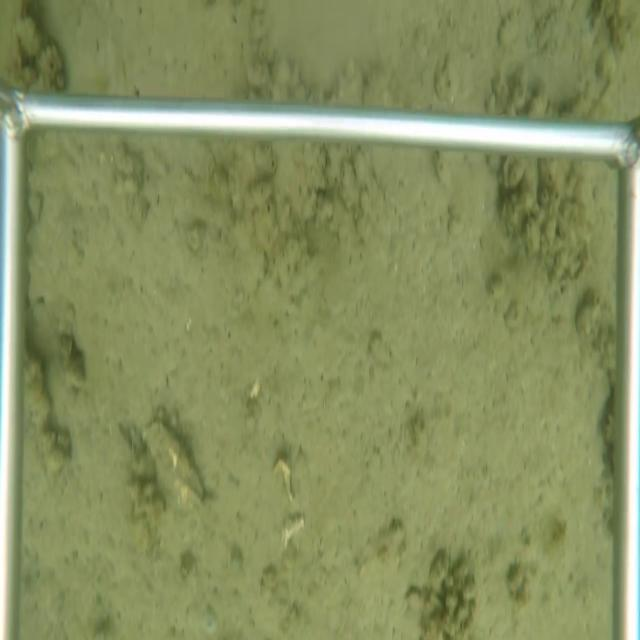Oyster-Indeterminate: (141, 416, 208, 514)
